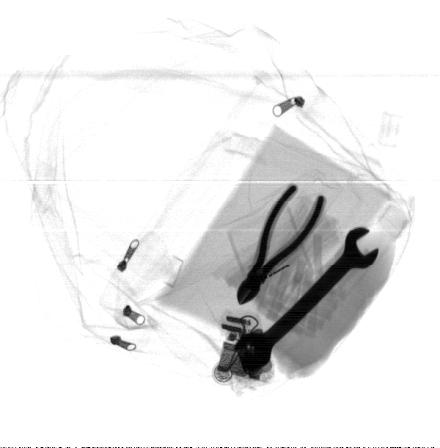Pliers: (236, 181, 328, 307)
Wrench: (234, 227, 378, 370)
